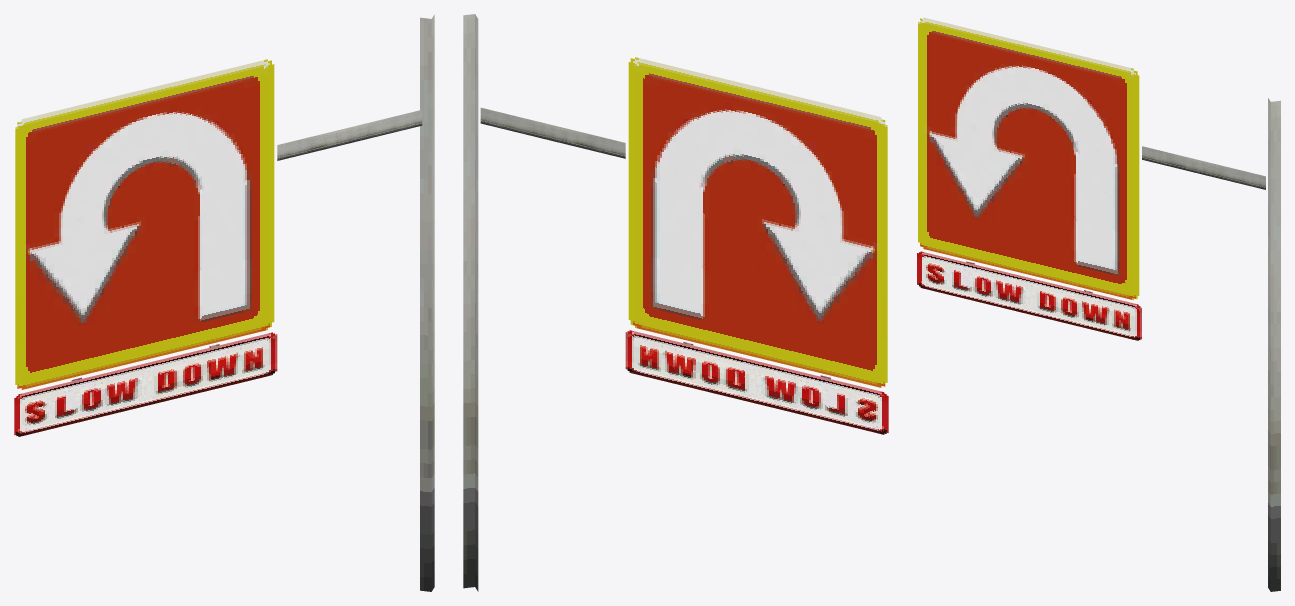
File: stage-prin-p10-47.glb
3 renders of one model, left to right at view 1: azimuth 30°, elevation 25°; view 2: azimuth 150°, elevation 25°; view 3: azimuth 330°, elevation 25°, orthographic. The views are drawn at different scales.
Bounding box in the file's own units: 8.04 × 10.41 × 0.1415.
Materials: 3 (3 with a texture image).
